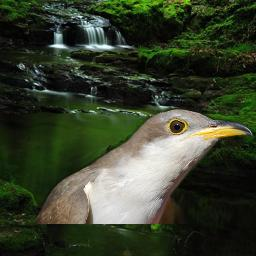Cuckoo: (36, 108, 253, 224)
